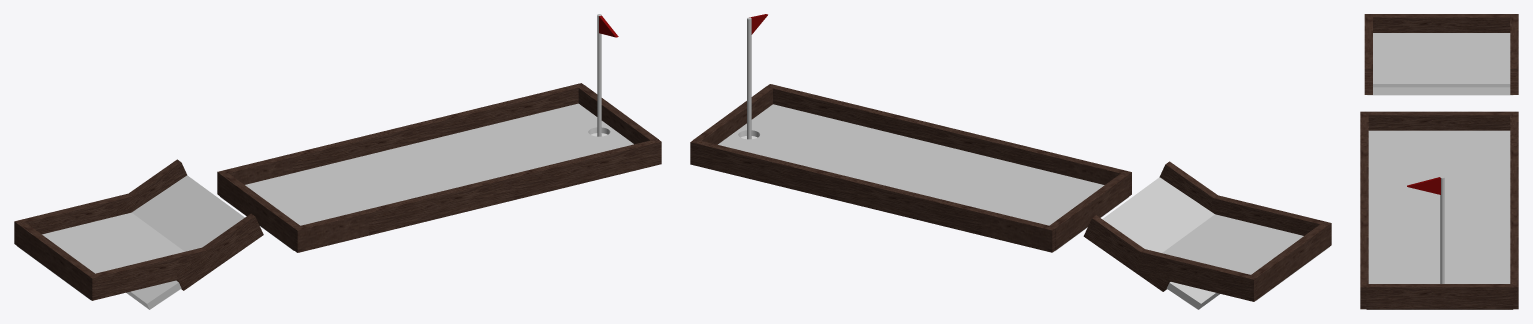
The model's file is Hole3.fbx.
3 renders of one model, left to right at view 1: azimuth 30°, elevation 25°; view 2: azimuth 150°, elevation 25°; view 3: azimuth 270°, elevation 25°, orthographic.
Visible parts, largest first — view 1: pCube50; view 2: pCube50; view 3: pCube50.
Boxes of the visible parts, x1,y1,x2,y2 form: pCube50: [14, 14, 661, 309]; pCube50: [690, 14, 1331, 309]; pCube50: [1360, 14, 1518, 309].
Size of the model in its own units: 34.03 by 8.49 by 8.34.
